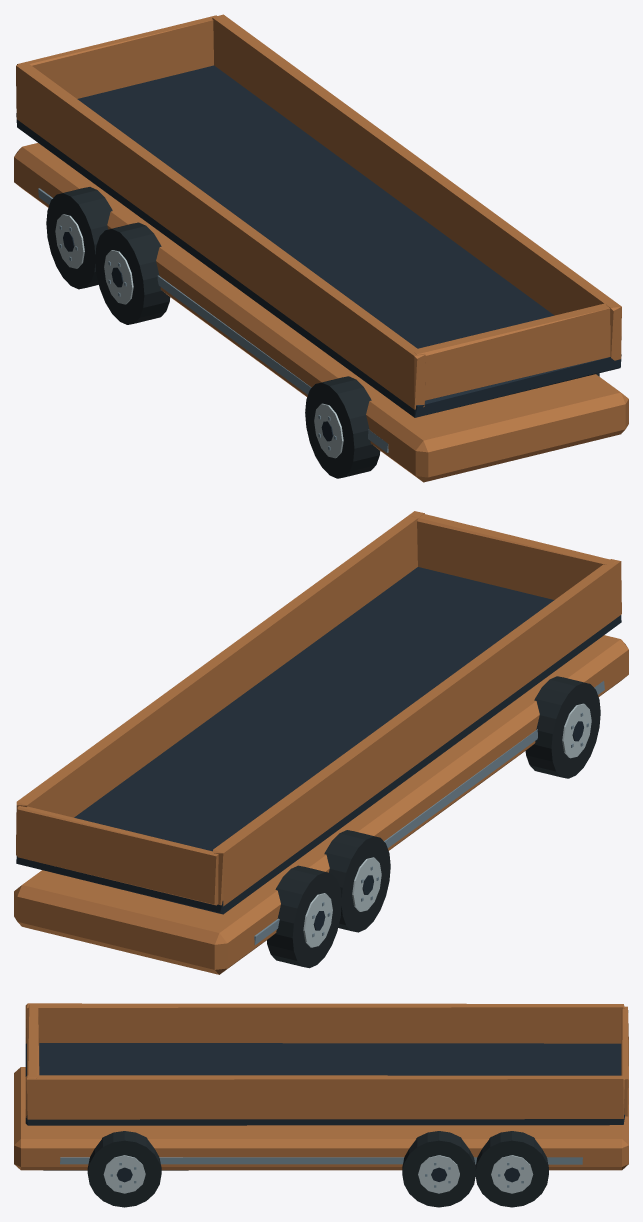
The model's file is road-trailer.lod1.glb.
3 views of the same model, one above another, from view 1: azimuth 30°, elevation 25°; view 2: azimuth 150°, elevation 25°; view 3: azimuth 270°, elevation 25° (orthographic). The views are drawn at different scales.
Parts seen in each view (by area): view 1: road-trailer__bed, road-trailer__body, road-trailer__tailgate, road-trailer__wheel_steer_0_l, road-trailer__wheel_steer_2_l, road-trailer__wheel_steer_1_l; view 2: road-trailer__bed, road-trailer__body, road-trailer__tailgate, road-trailer__wheel_steer_0_l, road-trailer__wheel_steer_1_l, road-trailer__wheel_steer_2_l; view 3: road-trailer__bed, road-trailer__body, road-trailer__wheel_steer_0_r, road-trailer__wheel_steer_2_r, road-trailer__wheel_steer_1_r, road-trailer__tailgate.
Part boxes in pixels (<box>): road-trailer__bed: <box>16,14,621,417</box>; road-trailer__body: <box>14,143,628,482</box>; road-trailer__tailgate: <box>17,15,216,98</box>; road-trailer__wheel_steer_0_l: <box>305,376,380,478</box>; road-trailer__wheel_steer_2_l: <box>95,222,170,324</box>; road-trailer__wheel_steer_1_l: <box>46,187,112,289</box>; road-trailer__bed: <box>16,511,621,914</box>; road-trailer__body: <box>14,635,628,974</box>; road-trailer__tailgate: <box>17,806,218,905</box>; road-trailer__wheel_steer_0_l: <box>525,676,600,778</box>; road-trailer__wheel_steer_1_l: <box>267,865,341,968</box>; road-trailer__wheel_steer_2_l: <box>324,830,390,932</box>; road-trailer__bed: <box>25,1003,624,1125</box>; road-trailer__body: <box>14,1067,628,1170</box>; road-trailer__wheel_steer_0_r: <box>87,1131,161,1207</box>; road-trailer__wheel_steer_2_r: <box>402,1131,475,1207</box>; road-trailer__wheel_steer_1_r: <box>475,1131,548,1207</box>; road-trailer__tailgate: <box>621,1006,628,1116</box>.
Size of the model in its own units: 2.85 by 1.74 by 8.
